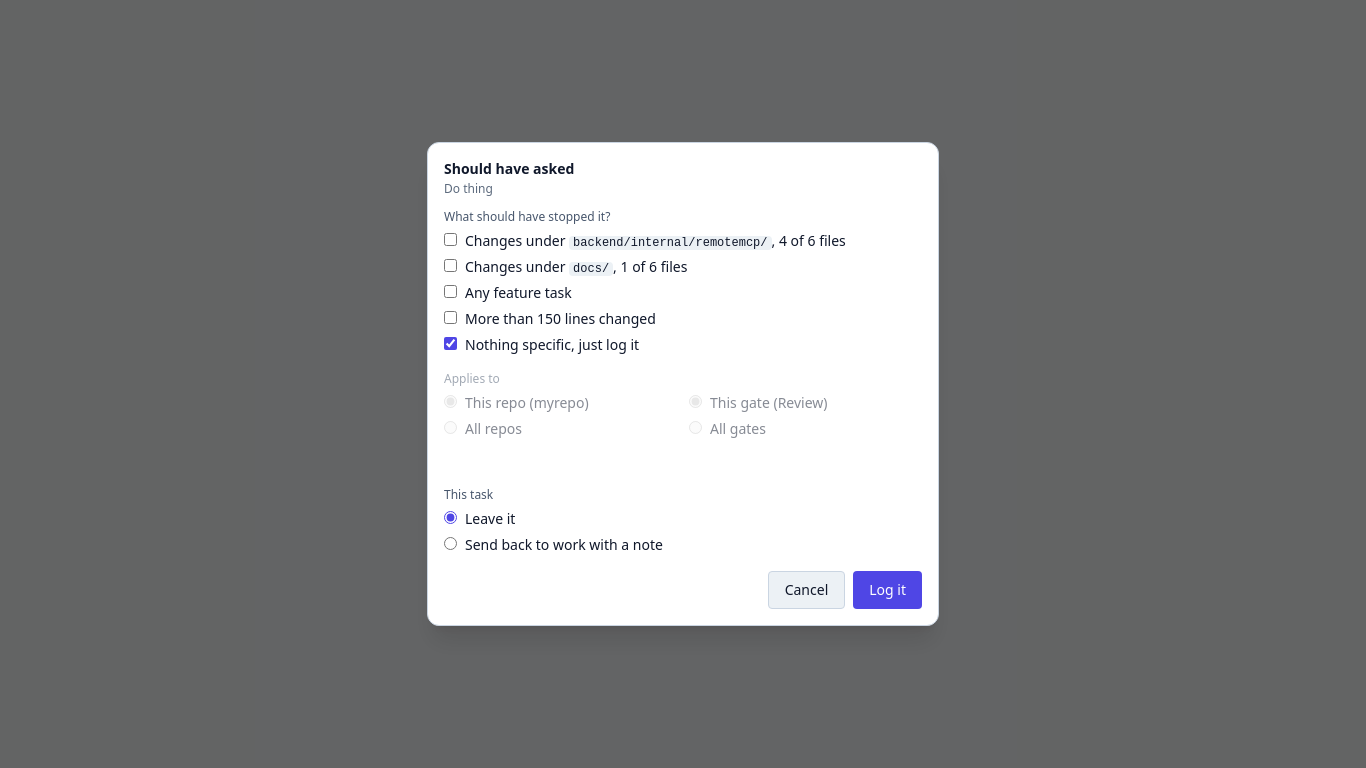
Scenario: ShouldHaveAskedDialog › "just log it" is exclusive and the button label follows
Click the checkbox labelled "Any feature task".
click(450, 292)  # box [444,285,457,298]
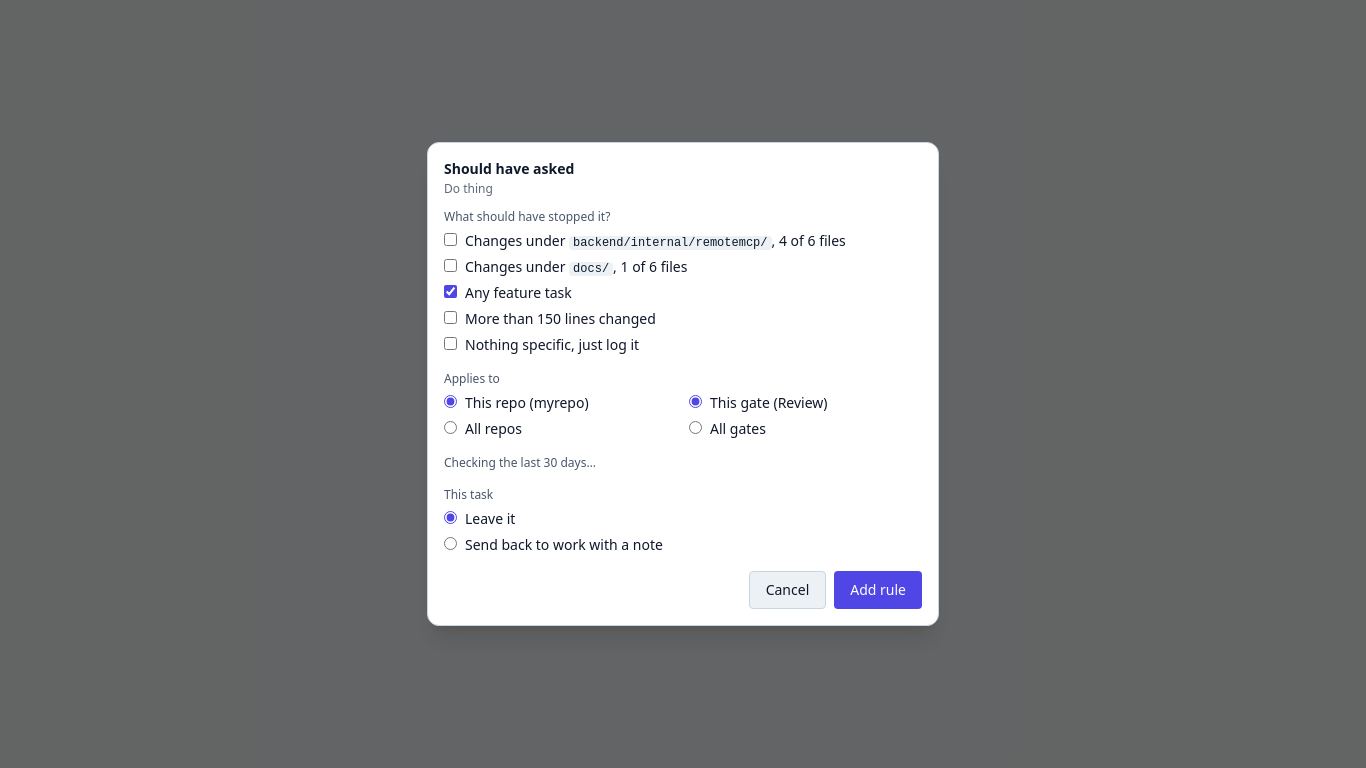
Expected: the checkbox labelled "Nothing specific, just log it" is not checked
Expected: the button "Add rule" is shown, [834,571,922,609]
Click the checkbox labelled "Nothing specific, just log it".
click(450, 344)  # box [444,337,457,350]
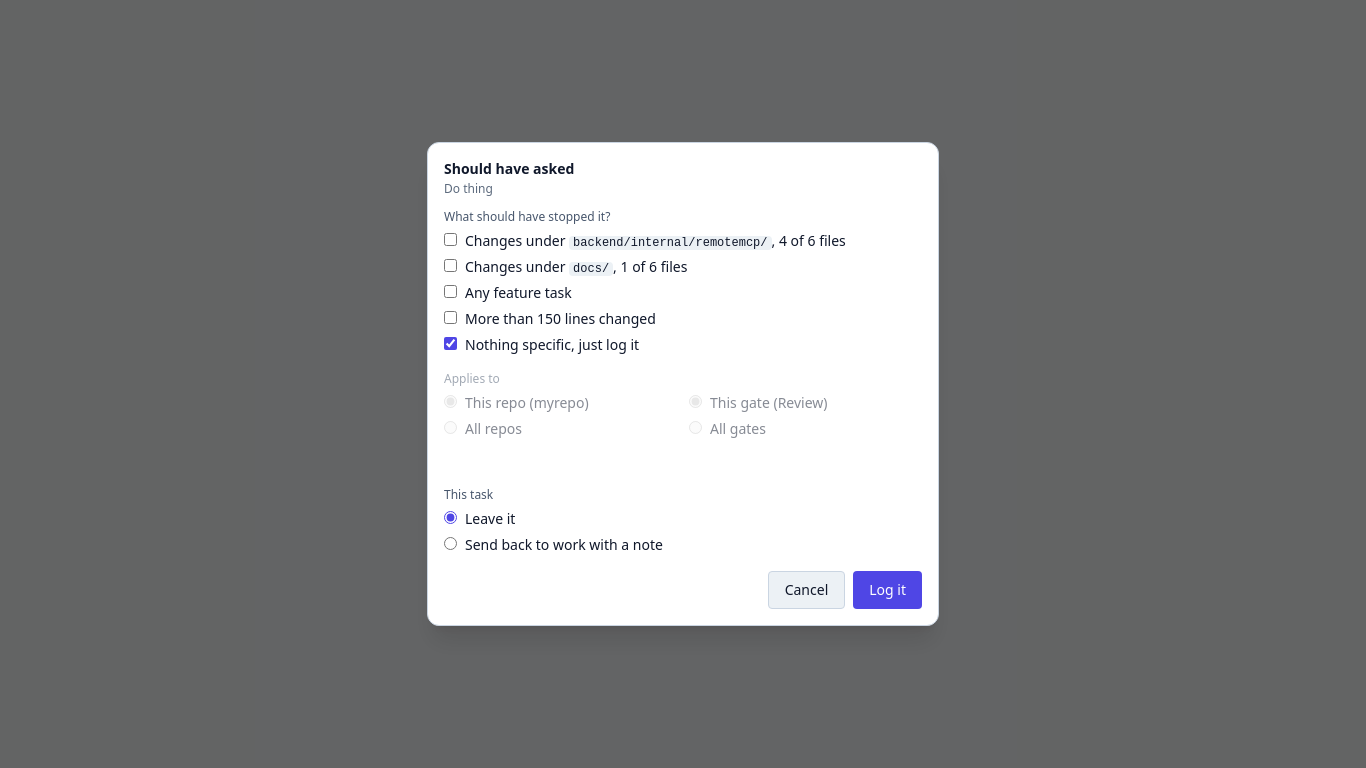
Expected: the checkbox labelled "Any feature task" is not checked, [444,285,457,298]
Expected: the button "Log it" is shown, [853,571,922,609]
